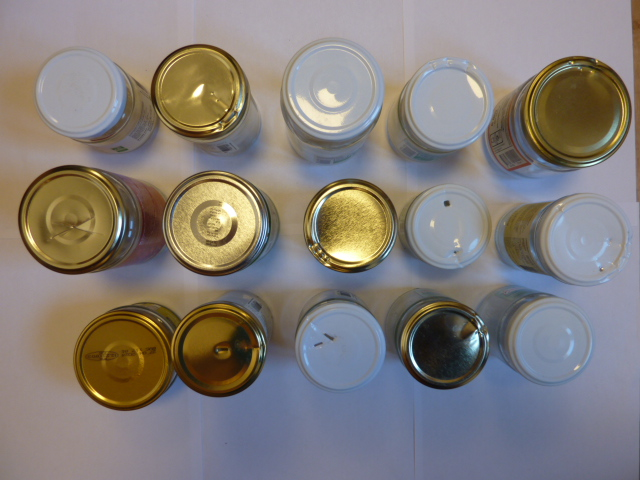damaged: (538, 192, 633, 286), (304, 179, 397, 273), (404, 304, 491, 390), (408, 182, 490, 268)
intact: (164, 171, 266, 275), (509, 298, 595, 385)
